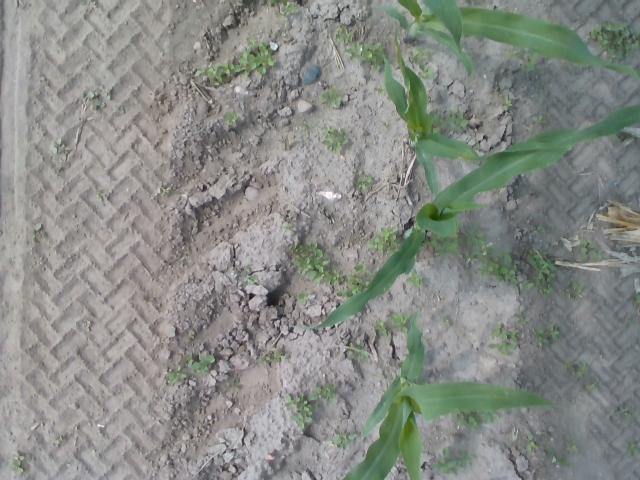Maize: (306, 104, 640, 329), (383, 21, 640, 199), (344, 312, 564, 480), (380, 1, 640, 80)
Weeds: (196, 37, 276, 85), (462, 220, 517, 286), (288, 239, 344, 286), (586, 20, 640, 61), (164, 349, 218, 388), (521, 240, 558, 294), (427, 446, 476, 476), (283, 390, 318, 432), (335, 259, 369, 295), (343, 42, 385, 70), (487, 322, 519, 356), (316, 124, 349, 156), (368, 227, 400, 255), (528, 321, 560, 348), (424, 234, 460, 257), (434, 109, 468, 132), (324, 428, 356, 450), (545, 445, 571, 470), (580, 238, 604, 265), (87, 90, 116, 110), (564, 278, 589, 301), (343, 340, 369, 362), (232, 265, 258, 286), (389, 308, 409, 334), (257, 348, 288, 364), (614, 404, 636, 426), (456, 413, 479, 434), (318, 88, 342, 108), (564, 359, 588, 378), (313, 384, 337, 403), (334, 25, 354, 46), (409, 44, 429, 64), (520, 432, 540, 452), (10, 452, 23, 479), (50, 136, 66, 157), (354, 172, 372, 190), (374, 318, 391, 337), (298, 116, 312, 138), (406, 272, 425, 288), (522, 50, 535, 73), (224, 110, 241, 127), (416, 64, 434, 80), (625, 439, 640, 458), (482, 412, 502, 426), (31, 223, 44, 243), (296, 291, 312, 306), (564, 439, 580, 453), (501, 49, 516, 63), (516, 313, 532, 326), (226, 378, 243, 390), (53, 434, 65, 451), (502, 94, 514, 111), (278, 4, 298, 14), (156, 184, 172, 196), (278, 224, 296, 234), (372, 82, 384, 96), (532, 114, 546, 125), (532, 223, 546, 234), (439, 318, 451, 329), (268, 0, 288, 6), (188, 330, 199, 340), (97, 194, 107, 205), (632, 292, 640, 305), (586, 382, 594, 394), (627, 314, 636, 324), (80, 0, 92, 5), (144, 294, 152, 301)
